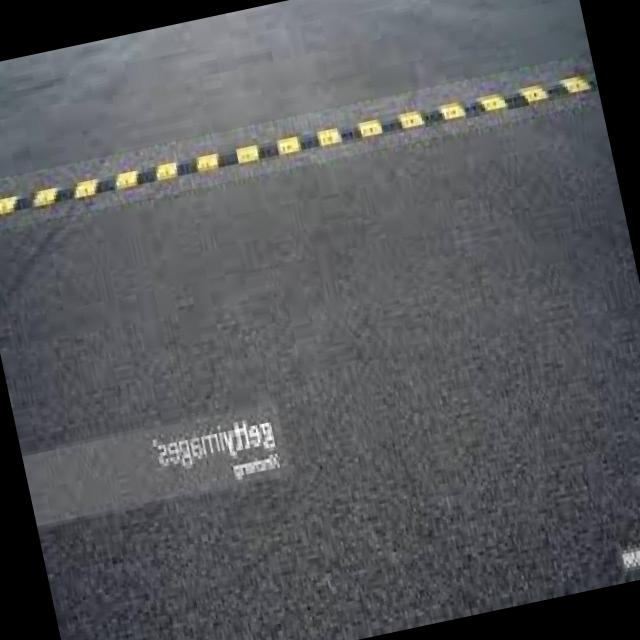bump: (0, 57, 581, 233)
